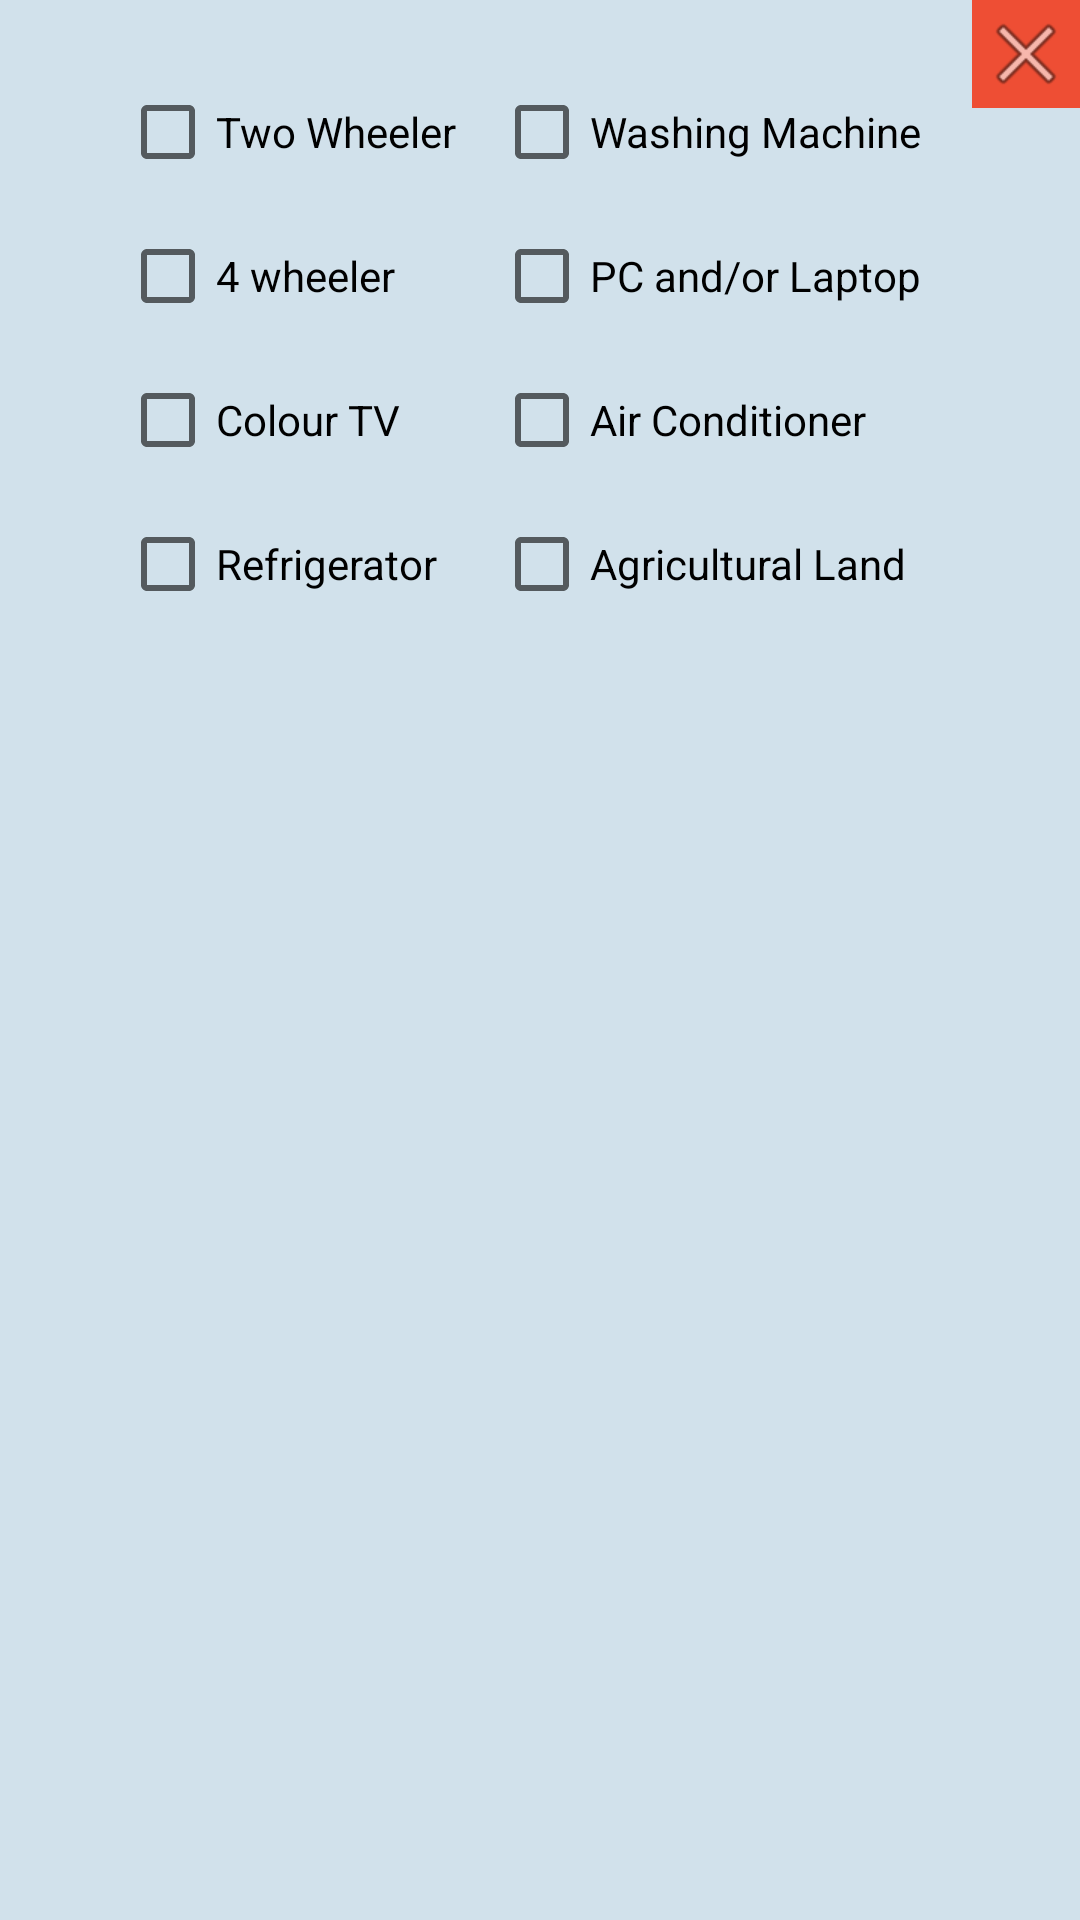

Screen size 1080px×1920px. Icon name, then its center in pixels as [x,y]:
close clear cancel: [1026,54]
